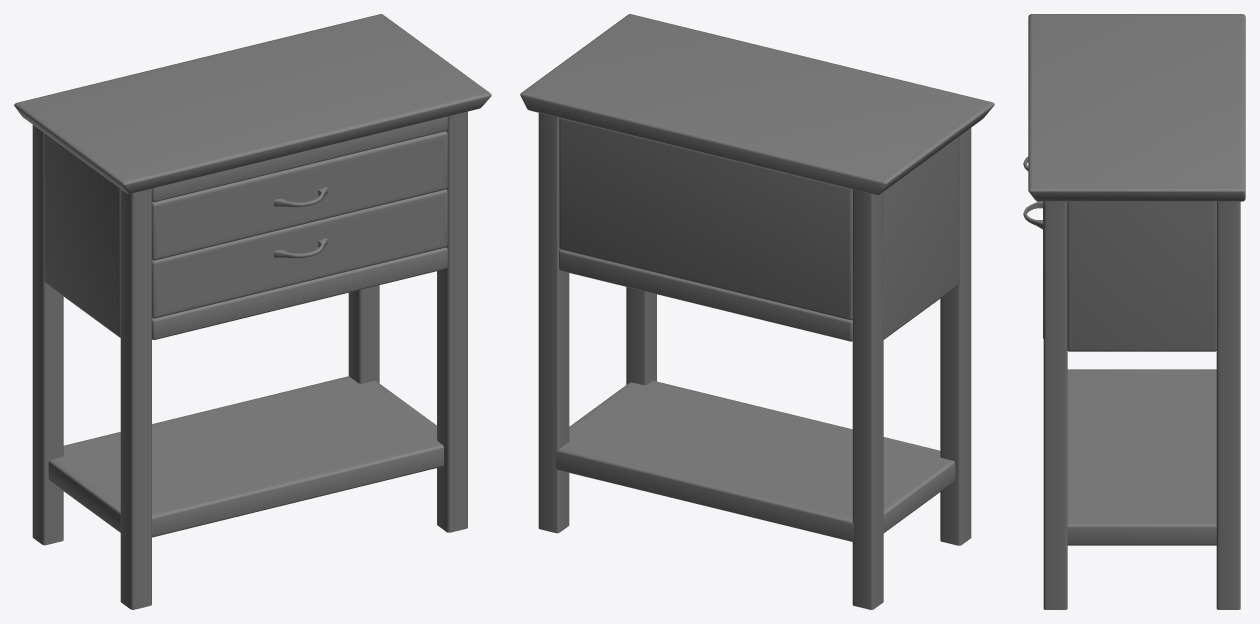
File: Nightstand.fbx
The picture shows the model from 3 angles, left to right: view 1: azimuth 30°, elevation 25°; view 2: azimuth 150°, elevation 25°; view 3: azimuth 270°, elevation 25°; orthographic projection.
Parts seen in each view (by area): view 1: Server_36in_DR001_1; view 2: Server_36in_DR001_1; view 3: Server_36in_DR001_1.
Boxes of the visible parts, bbox=[...] form: Server_36in_DR001_1: bbox=[14, 14, 491, 609]; Server_36in_DR001_1: bbox=[520, 14, 994, 609]; Server_36in_DR001_1: bbox=[1023, 14, 1245, 609].
Size of the model in its own units: 81.17 by 91.65 by 43.1.
1 material, 1 textured.
